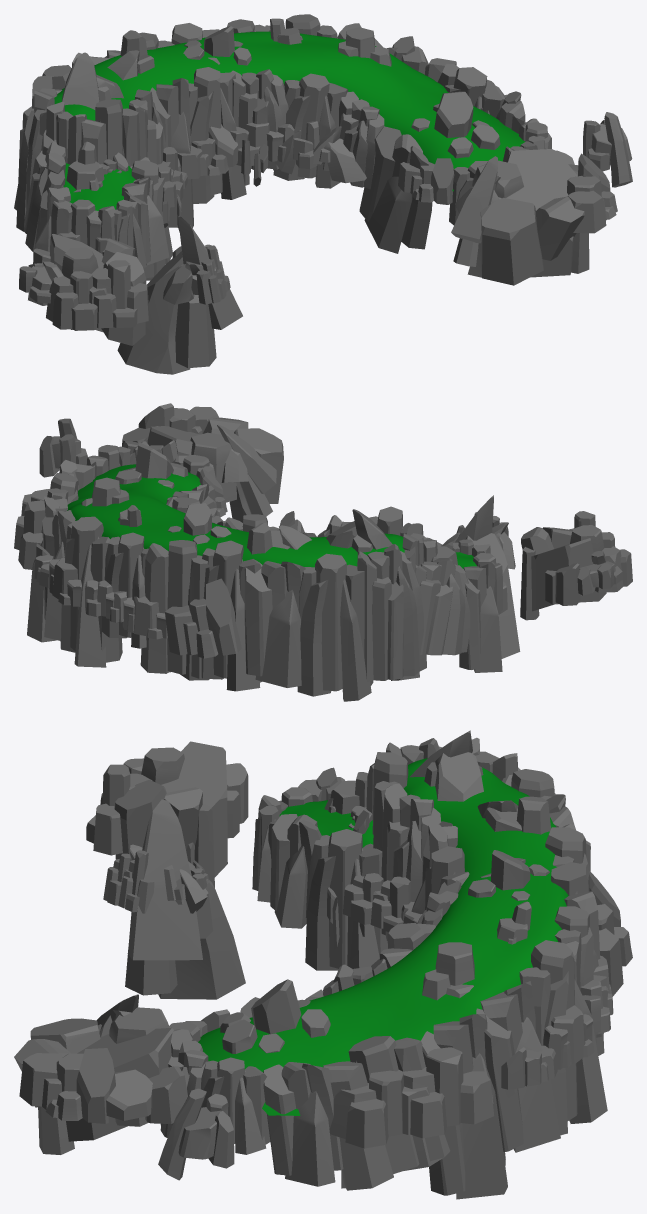
File: Zone2_Atoll_Beta.fbx
3 views of the same model, one above another, from view 1: azimuth 30°, elevation 25°; view 2: azimuth 150°, elevation 25°; view 3: azimuth 270°, elevation 25° (orthographic). The views are drawn at different scales.
Parts seen in each view (by area): view 1: pPlane2, rock_medium_95, rock_large_27, rock5083, rock_cliff155, rock5070, rock5081, rock_medium_94, rock5072, rock5074, rock5071, rock_medium_96 (+38 smaller); view 2: rock5077, pPlane2, rock5076, rock5078, rock_medium_94, rock5080, rock5094, rock5090, rock_medium_95, rock_cliff165, rock5079, rock5091 (+32 smaller); view 3: pPlane2, rock_large_27, rock_medium_94, rock_cliff162, rock_medium_95, rock5087, rock5088, rock5096, rock5095, rock5097, rock5094, rock_cliff156 (+38 smaller).
Part boxes in pixels (bbox=[...]): pPlane2: bbox=[54, 31, 525, 191]; rock_medium_95: bbox=[472, 149, 589, 285]; rock_large_27: bbox=[117, 216, 242, 374]; rock5083: bbox=[359, 126, 432, 253]; rock_cliff155: bbox=[46, 260, 149, 330]; rock5070: bbox=[188, 67, 246, 203]; rock5081: bbox=[273, 73, 348, 188]; rock_medium_94: bbox=[33, 234, 146, 345]; rock5072: bbox=[231, 69, 288, 169]; rock5074: bbox=[81, 99, 140, 166]; rock5071: bbox=[150, 78, 193, 227]; rock_medium_96: bbox=[411, 91, 500, 158]; rock5077: bbox=[297, 553, 373, 701]; pPlane2: bbox=[67, 464, 404, 567]; rock5076: bbox=[357, 544, 424, 681]; rock5078: bbox=[244, 561, 305, 687]; rock_medium_94: bbox=[520, 525, 606, 620]; rock5080: bbox=[140, 540, 209, 680]; rock5094: bbox=[60, 516, 122, 667]; rock5090: bbox=[415, 558, 470, 655]; rock_medium_95: bbox=[123, 417, 283, 503]; rock_cliff165: bbox=[165, 578, 241, 658]; rock5079: bbox=[201, 540, 262, 691]; rock5091: bbox=[459, 562, 502, 672]; pPlane2: bbox=[198, 758, 568, 1115]; rock_large_27: bbox=[125, 799, 245, 999]; rock_medium_94: bbox=[114, 741, 248, 887]; rock_cliff162: bbox=[329, 1047, 494, 1148]; rock_medium_95: bbox=[14, 1007, 187, 1154]; rock5087: bbox=[263, 1062, 343, 1186]; rock5088: bbox=[305, 829, 387, 970]; rock5096: bbox=[421, 1014, 507, 1199]; rock5095: bbox=[476, 981, 560, 1152]; rock5097: bbox=[323, 1036, 450, 1190]; rock5094: bbox=[519, 940, 607, 1135]; rock_cliff156: bbox=[19, 1048, 115, 1123].
Bounding box in the file's own units: 93327 × 32681 × 65788.
